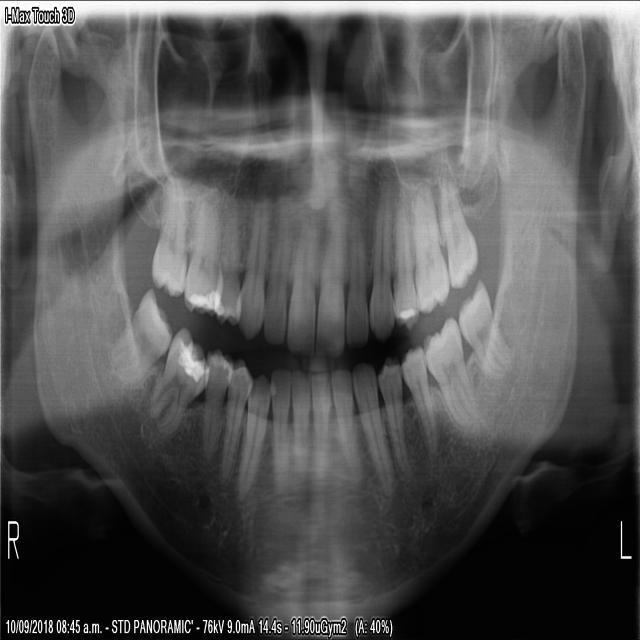LCD: (348, 357, 395, 500)
LCU: (365, 180, 395, 343)
LID: (328, 360, 363, 487), (308, 366, 330, 472)
LIU: (314, 203, 346, 362), (342, 206, 370, 351)
LMD: (419, 307, 479, 433), (451, 270, 510, 385)
LMU: (433, 152, 480, 296), (408, 171, 452, 320)
LPMD: (397, 339, 440, 457), (375, 351, 413, 483)
LPMU: (389, 191, 420, 330)
RCD: (234, 366, 272, 501)
RCU: (232, 191, 268, 345)
RID: (266, 358, 290, 499), (288, 367, 313, 474)
RIU: (284, 209, 317, 360), (260, 198, 292, 348)
RMD: (141, 320, 209, 450), (100, 280, 173, 399)
RMU: (179, 183, 224, 319), (147, 166, 187, 303)
RPMD: (215, 357, 252, 491), (198, 342, 235, 464)
RPMU: (210, 189, 241, 330)
